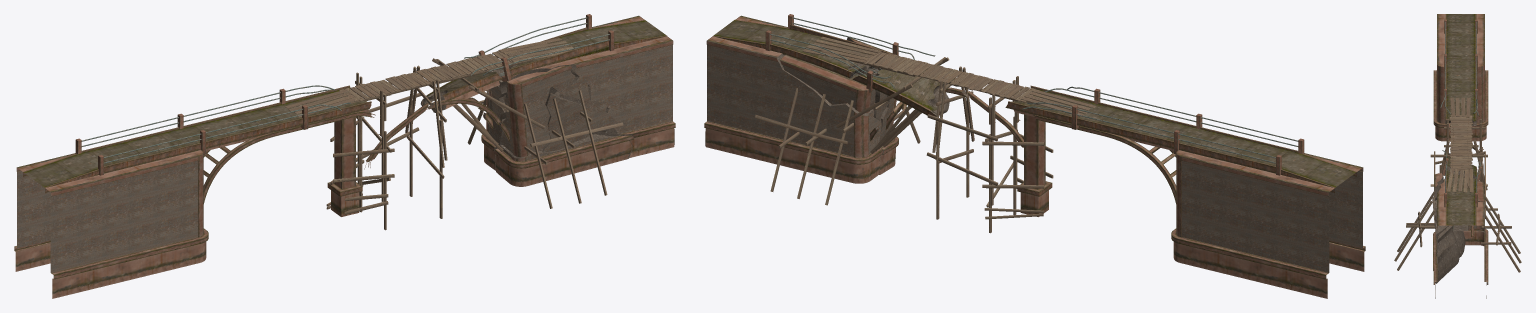
File: BrokenBridge.glb
3 views of the same model, side by side, from view 1: azimuth 30°, elevation 25°; view 2: azimuth 150°, elevation 25°; view 3: azimuth 270°, elevation 25° (orthographic). The views are drawn at different scales.
Parts seen in each view (by area): view 1: SM_Bridge_Long; view 2: SM_Bridge_Long; view 3: SM_Bridge_Long.
Boxes of the visible parts, bbox=[...] form: SM_Bridge_Long: bbox=[14, 14, 675, 298]; SM_Bridge_Long: bbox=[704, 14, 1365, 298]; SM_Bridge_Long: bbox=[1394, 14, 1521, 298].
Size of the model in its own units: 48.81 by 10.79 by 12.43.
5 materials, 5 textured.
